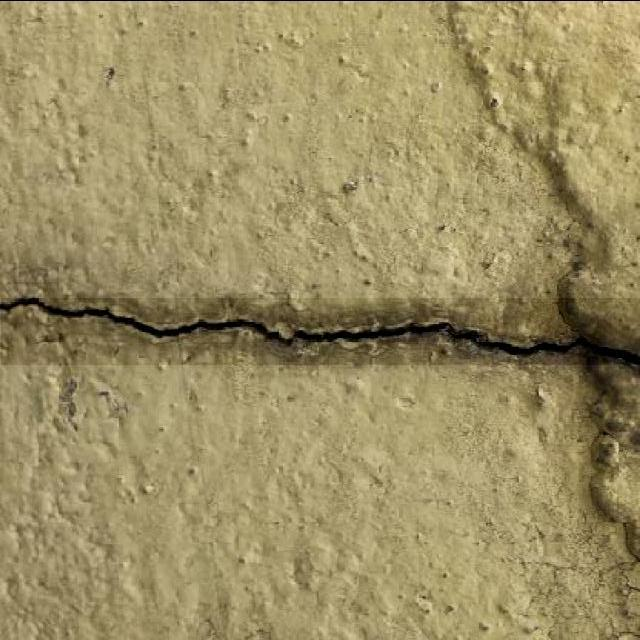crack: (1, 293, 636, 366), (156, 312, 211, 640), (521, 127, 620, 281), (7, 298, 297, 343), (0, 263, 224, 321), (4, 300, 105, 354), (3, 296, 79, 319)
